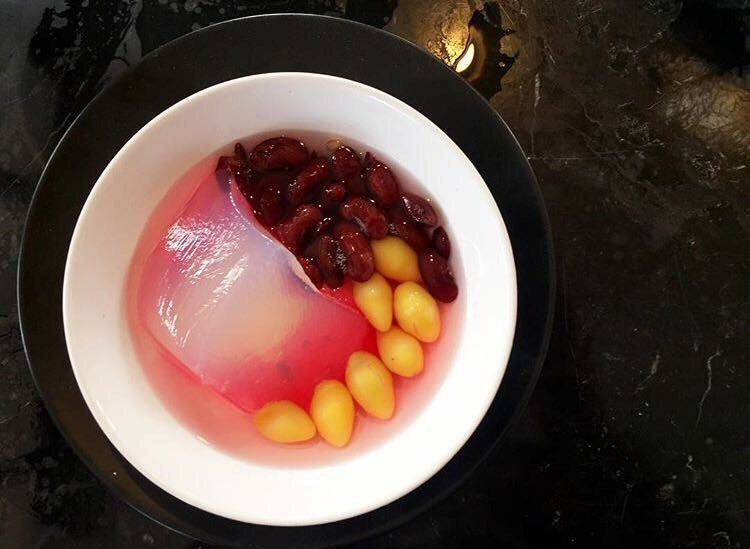O-eo: (108, 82, 497, 519)
